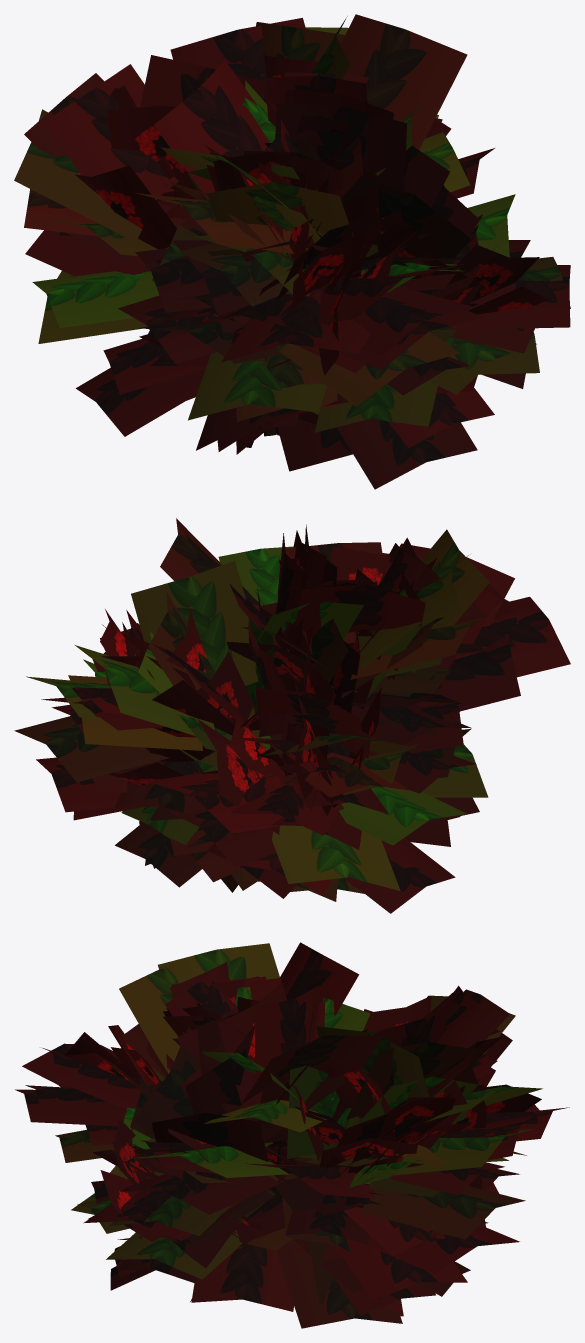
Rendered from veg_bush3.glb.
3 renders of one model, top to bottom at view 1: azimuth 30°, elevation 25°; view 2: azimuth 150°, elevation 25°; view 3: azimuth 270°, elevation 25°, orthographic. The views are drawn at different scales.
Visible parts, largest first — view 1: bush_3; view 2: bush_3; view 3: bush_3.
Part boxes in pixels (<box>): bush_3: <box>14,14,570,489</box>; bush_3: <box>14,518,570,913</box>; bush_3: <box>15,942,569,1328</box>.
Bounding box in the file's own units: 1.54 × 1.23 × 1.95.
2 materials, 2 textured.
